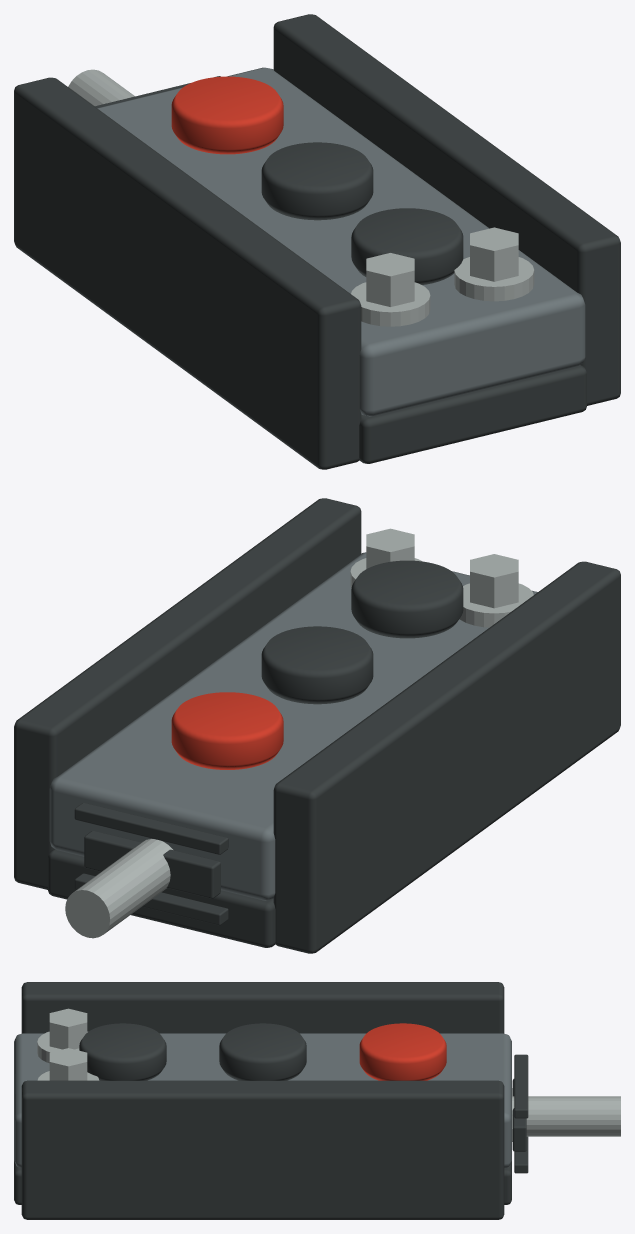
Rendered from automated-parking-and-vehicle-retrieval-automated-park-548a8234__30380.glb.
3 views of the same model, one above another, from view 1: azimuth 30°, elevation 25°; view 2: azimuth 150°, elevation 25°; view 3: azimuth 270°, elevation 25° (orthographic). The views are drawn at different scales.
Visible parts, largest first — view 1: automated-parking-and-vehicle-retrieval-manual-service-penda (×4); view 2: automated-parking-and-vehicle-retrieval-manual-service-penda (×4); view 3: automated-parking-and-vehicle-retrieval-manual-service-penda (×4).
Boxes of the visible parts, <box> form: automated-parking-and-vehicle-retrieval-manual-service-penda (×4): <box>14,14,620,469</box>; automated-parking-and-vehicle-retrieval-manual-service-penda (×4): <box>14,498,620,953</box>; automated-parking-and-vehicle-retrieval-manual-service-penda (×4): <box>14,982,620,1219</box>.
Size of the model in its own units: 0.175 by 0.09 by 0.39.
